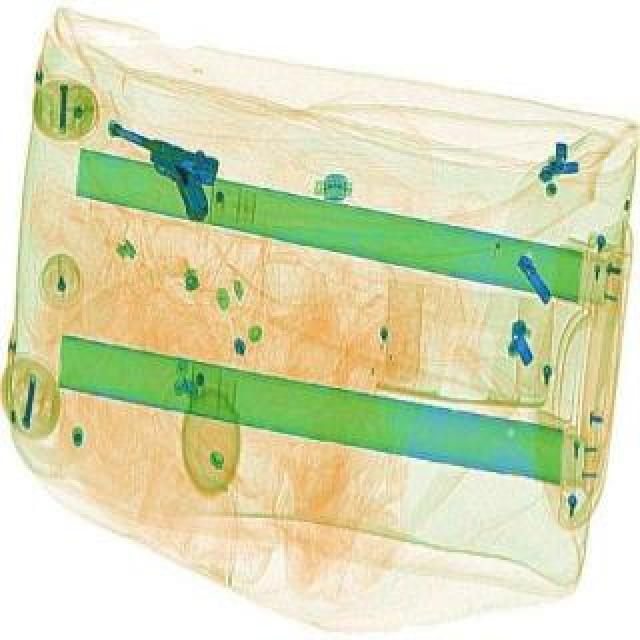gun: (90, 100, 242, 230)
